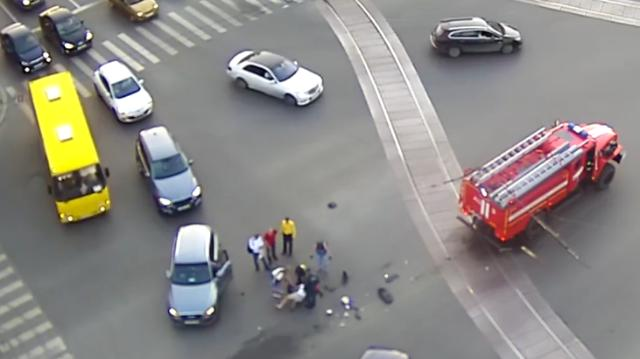fire fighting vehicle: (458, 117, 624, 254)
non emergency car: (28, 70, 110, 225), (167, 224, 233, 330), (136, 126, 202, 217), (226, 50, 324, 106), (430, 16, 524, 60), (94, 60, 154, 124), (39, 5, 93, 57), (0, 21, 52, 75), (107, 0, 159, 22)
